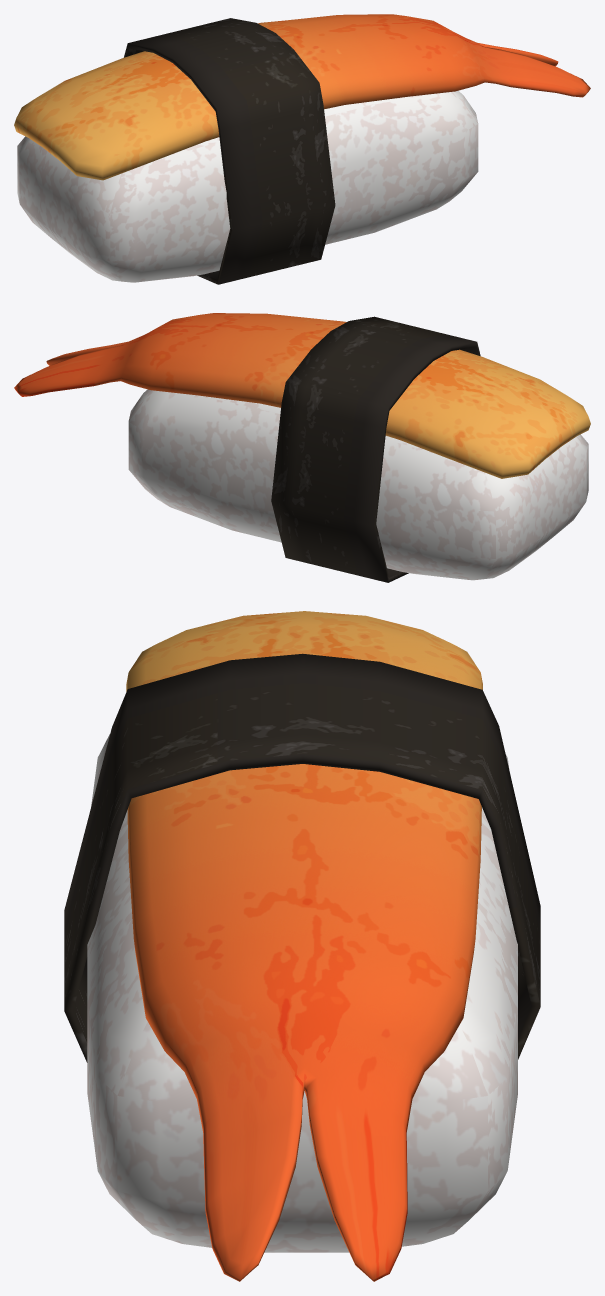
Rendered from Ebi.fbx.
The picture shows the model from 3 angles, top to bottom: view 1: azimuth 30°, elevation 25°; view 2: azimuth 150°, elevation 25°; view 3: azimuth 270°, elevation 25°; orthographic projection. The views are drawn at different scales.
Visible parts, largest first — view 1: Ebi; view 2: Ebi; view 3: Ebi.
Part boxes in pixels (x1,y1,x2,y2): Ebi: (14,14,590,284); Ebi: (14,313,590,582); Ebi: (64,611,540,1281).
Size of the model in its own units: 1.04 by 0.4044 by 0.3803.
